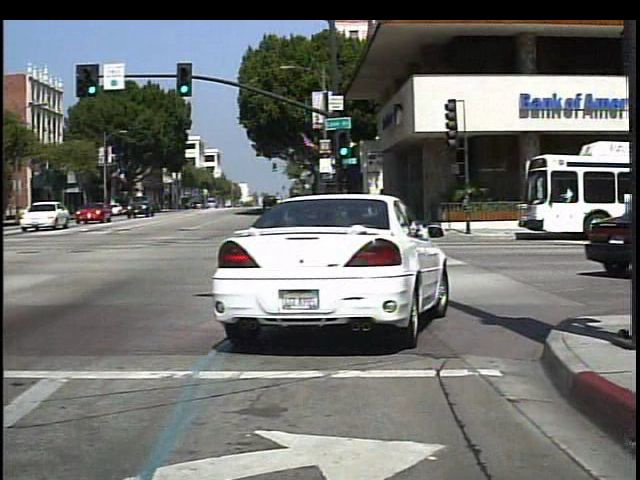person: (373, 182, 392, 224)
